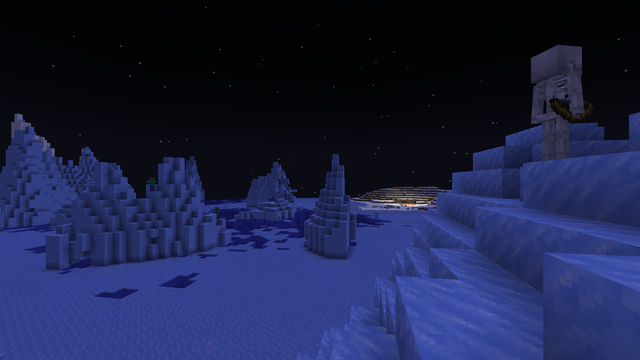squelettes: (527, 43, 587, 160)
zombies: (148, 177, 155, 191), (214, 207, 219, 219)
